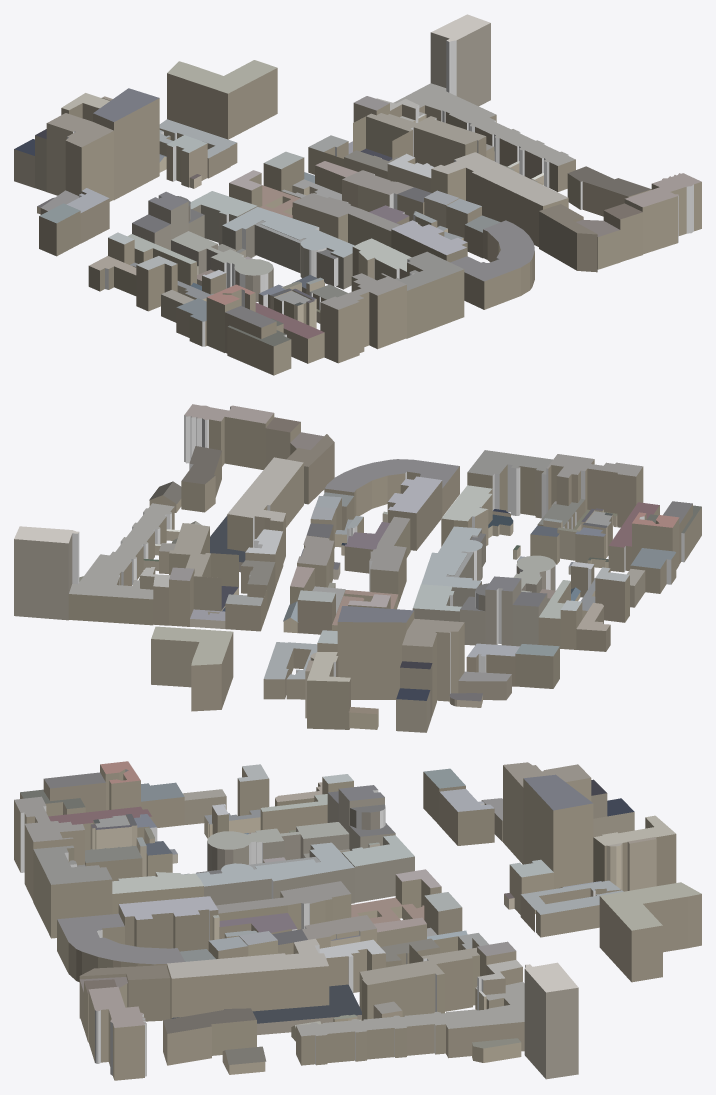
3 renders of one model, top to bottom at view 1: azimuth 30°, elevation 25°; view 2: azimuth 150°, elevation 25°; view 3: azimuth 270°, elevation 25°, orthographic. The views are drawn at different scales.
Parts seen in each view (by area): view 1: tuile; view 2: tuile; view 3: tuile.
Boxes of the visible parts, x1,y1,x2,y2 form: tuile: (14, 14, 701, 375); tuile: (14, 404, 701, 732); tuile: (14, 761, 701, 1080).
Size of the model in its own units: 271 by 40.62 by 280.
